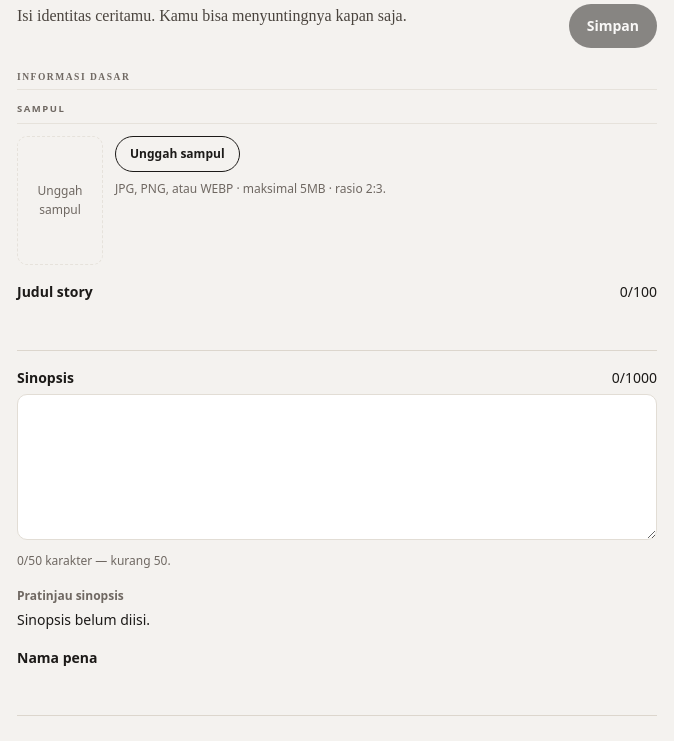
penanda perubahan & penghitung · FR-STUDIO-12 › kedua tombol simpan nonaktif sampai ada perubahan nyata
Expected: the button "Simpan" is disabled, [569,4,657,48]
Type "A" into the field labelled "Judul story" at [337, 330], box [17,309,657,351]
(page scrolled)
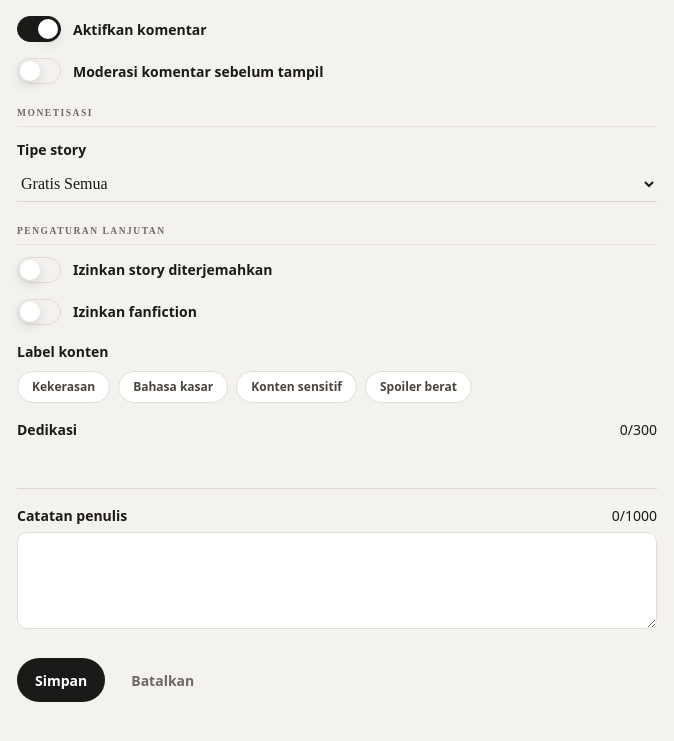
Result: the button "Simpan" is enabled at [17,658,105,702]
